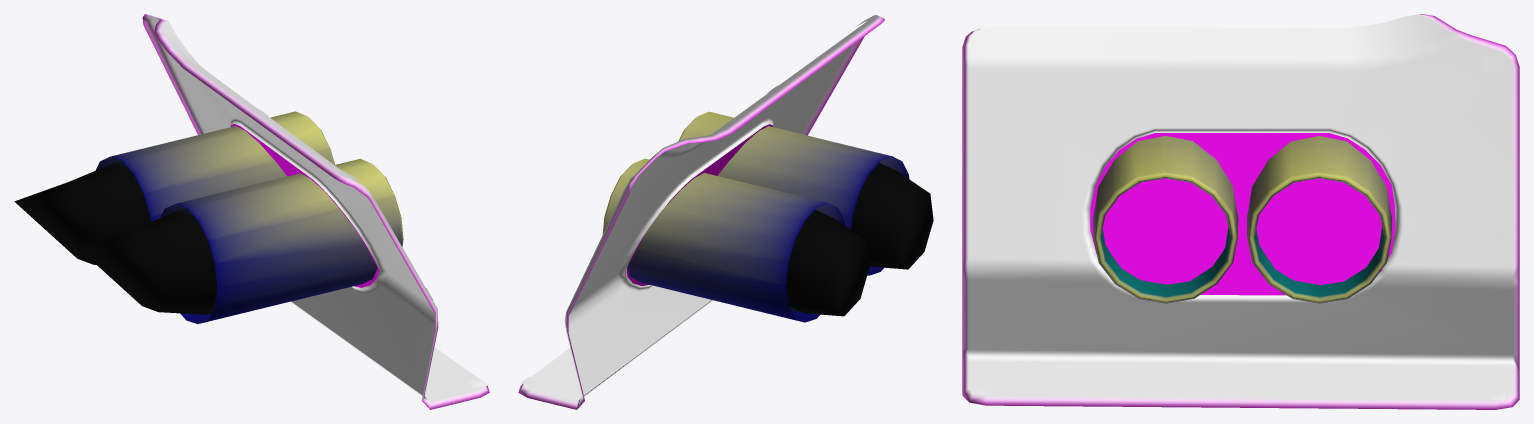
File: Car_Nissan_SkylineGTRVspecR34_1999_Exhausts_SetF_AltD.fbx
The picture shows the model from 3 angles, left to right: view 1: azimuth 30°, elevation 25°; view 2: azimuth 150°, elevation 25°; view 3: azimuth 270°, elevation 25°; orthographic projection. The views are drawn at different scales.
Parts seen in each view (by area): view 1: Exhausts 6; view 2: Exhausts 6; view 3: Exhausts 6.
Boxes of the visible parts, <box> form: Exhausts 6: <box>14,14,489,409</box>; Exhausts 6: <box>518,14,933,409</box>; Exhausts 6: <box>962,14,1519,409</box>.
Bounding box in the file's own units: 0.1919 × 0.1663 × 0.269.
